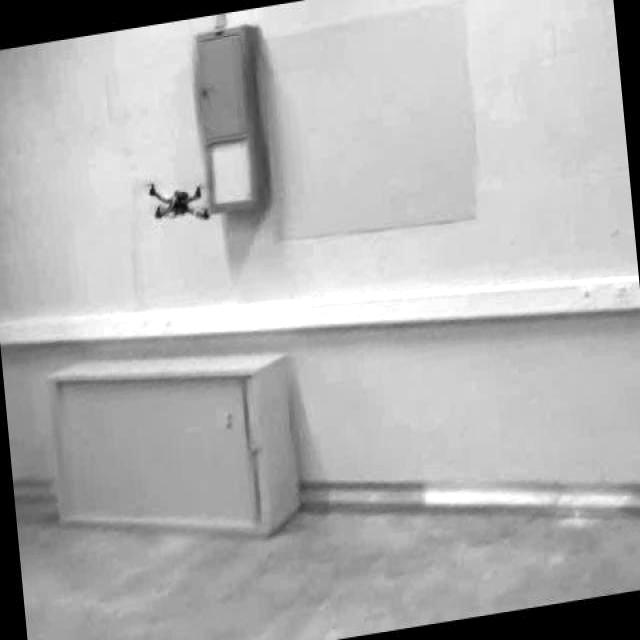drone: (142, 163, 216, 234)
